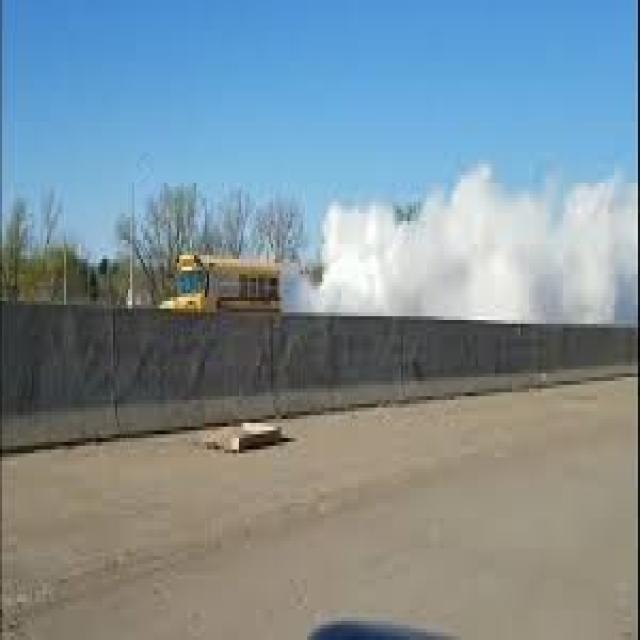Smoke: (293, 175, 632, 320)
